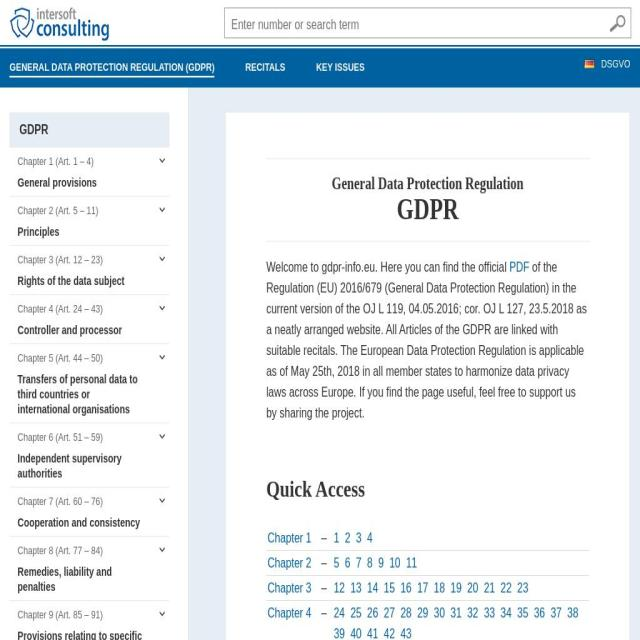button: (9, 344, 170, 423), (9, 423, 170, 487), (9, 537, 170, 600), (9, 147, 170, 196), (9, 487, 170, 536), (9, 197, 170, 245), (9, 246, 170, 294), (9, 295, 170, 343), (9, 601, 170, 640), (9, 113, 170, 147), (9, 59, 215, 78), (267, 527, 312, 548), (267, 552, 312, 573), (267, 577, 312, 598), (267, 602, 312, 623), (316, 59, 365, 76), (245, 59, 286, 76), (154, 150, 170, 170), (154, 199, 170, 219), (154, 248, 170, 268), (154, 298, 170, 318), (154, 346, 170, 366), (154, 426, 170, 446), (154, 490, 170, 510), (154, 539, 170, 559), (154, 604, 170, 624), (388, 552, 401, 573), (406, 552, 418, 573), (333, 577, 345, 598), (350, 577, 362, 598), (367, 577, 379, 598), (400, 577, 412, 598), (417, 577, 429, 598), (450, 577, 462, 598), (467, 577, 479, 598), (500, 577, 512, 598), (517, 577, 529, 598), (333, 602, 345, 623), (350, 602, 362, 623), (367, 602, 379, 623), (400, 602, 412, 623), (417, 602, 429, 623), (450, 602, 462, 623), (467, 602, 479, 623), (500, 602, 512, 623), (517, 602, 529, 623), (534, 602, 546, 623), (550, 602, 562, 623), (567, 602, 579, 623), (384, 577, 395, 598), (434, 577, 445, 598), (484, 577, 495, 598), (384, 602, 395, 623), (434, 602, 445, 623), (484, 602, 495, 623), (333, 622, 345, 640), (350, 622, 362, 640), (367, 622, 379, 640), (400, 622, 412, 640), (384, 622, 395, 640), (333, 527, 339, 548), (344, 527, 350, 548), (356, 527, 362, 548), (367, 527, 373, 548), (333, 552, 339, 573), (344, 552, 350, 573), (356, 552, 362, 573), (367, 552, 373, 573), (378, 552, 384, 573)
field: (224, 7, 631, 38)
heading: (266, 192, 590, 226), (266, 473, 590, 505), (266, 174, 590, 194)
image: (10, 7, 109, 41), (584, 59, 595, 69)
link: (600, 58, 630, 70), (509, 259, 529, 274)
text: (266, 259, 586, 420), (17, 371, 152, 417), (17, 450, 152, 481), (17, 564, 152, 594), (266, 259, 510, 274), (17, 174, 152, 190), (17, 223, 152, 239), (17, 272, 152, 288), (17, 322, 152, 338), (17, 514, 152, 530), (17, 627, 151, 640), (18, 252, 104, 266), (18, 494, 104, 508), (18, 543, 104, 557), (18, 607, 104, 621), (18, 203, 98, 217), (18, 302, 104, 315), (18, 351, 104, 364), (18, 430, 104, 443), (17, 154, 94, 168), (320, 599, 332, 640), (320, 549, 332, 575), (320, 574, 332, 600), (320, 525, 332, 550)
